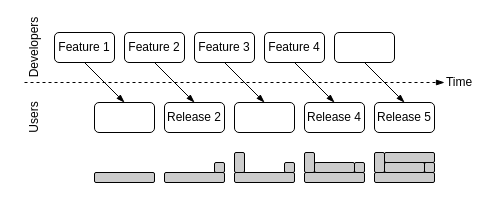
The diagram is 492 pixels wide and 200 high, and some of its shapes have lost their labels. Each missing label, with the centre of its shape:
"Feature 5" belongs at point (364, 47).
"Release 1" belongs at point (124, 117).
"Release 3" belongs at point (264, 117).
